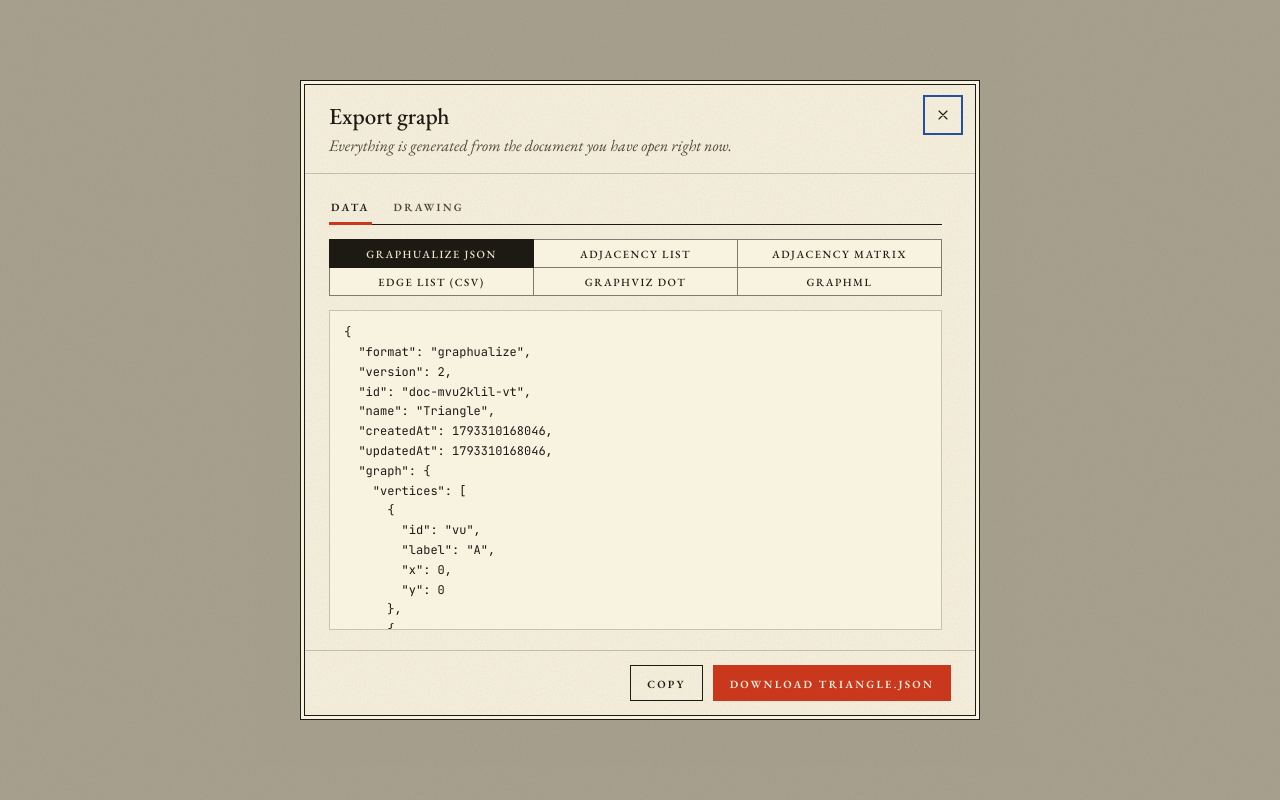
it: Export dialog, TikZ › carries the highlight on screen, and leaves it out when asked
Step 1. Click the button "Drawing" → (429, 208), box x1=392 y1=192 x2=466 y2=225
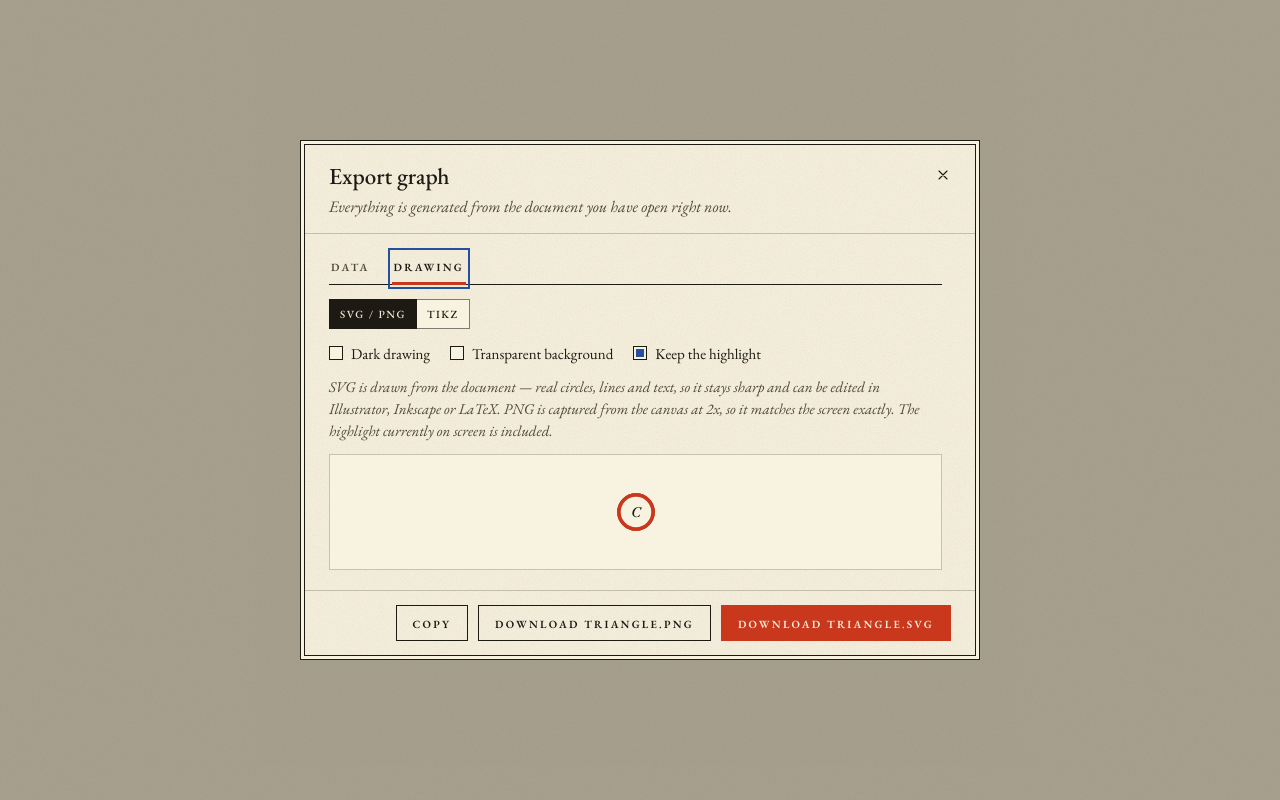
Step 2. Click the button "TikZ" → (443, 314), box x1=416 y1=299 x2=470 y2=329
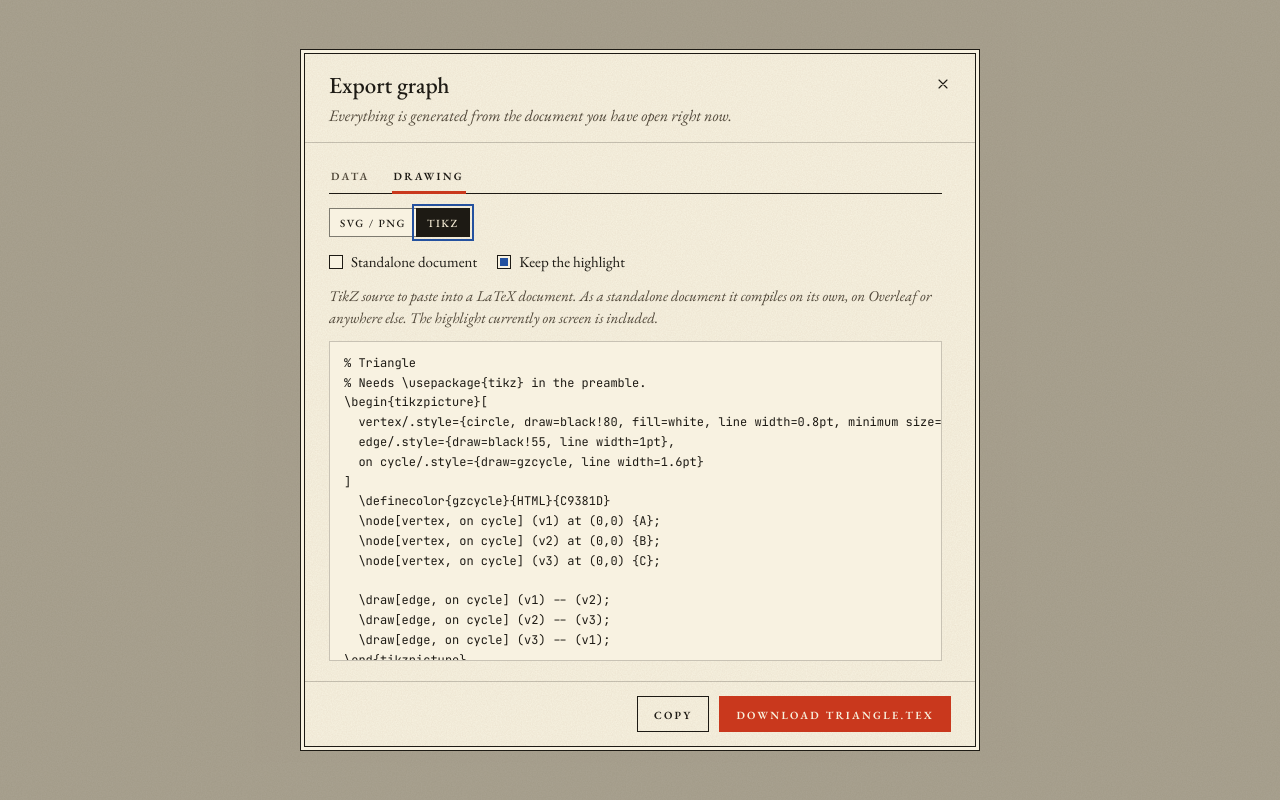
Expected: the text "\\draw[edge, on cycle]" is shown, x1=344 y1=355 x2=975 y2=668
Expected: the text "\\definecolor{gzcycle}" is shown, x1=344 y1=355 x2=975 y2=668
Step 3. Click the checkbox labelled "Keep the highlight" → (504, 262), box x1=497 y1=255 x2=511 y2=269
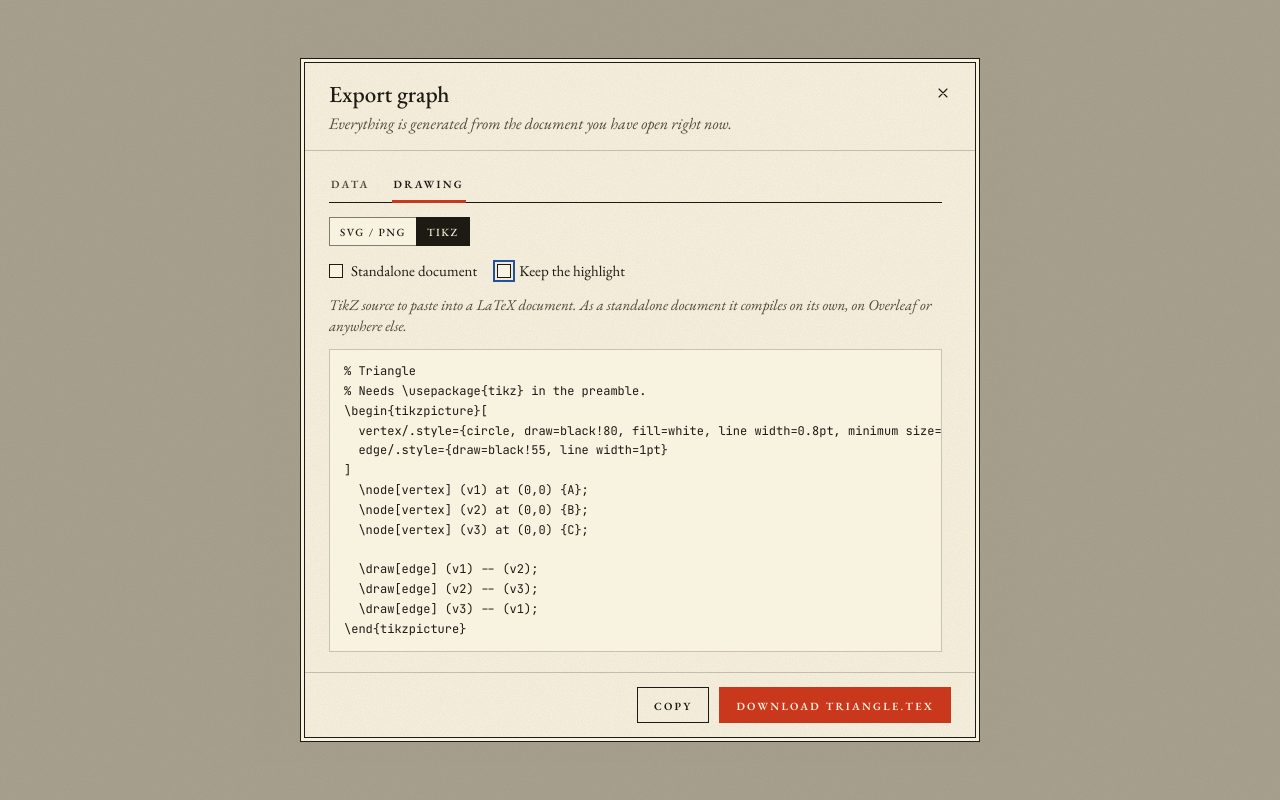
Expected: the text "on cycle" is gone
